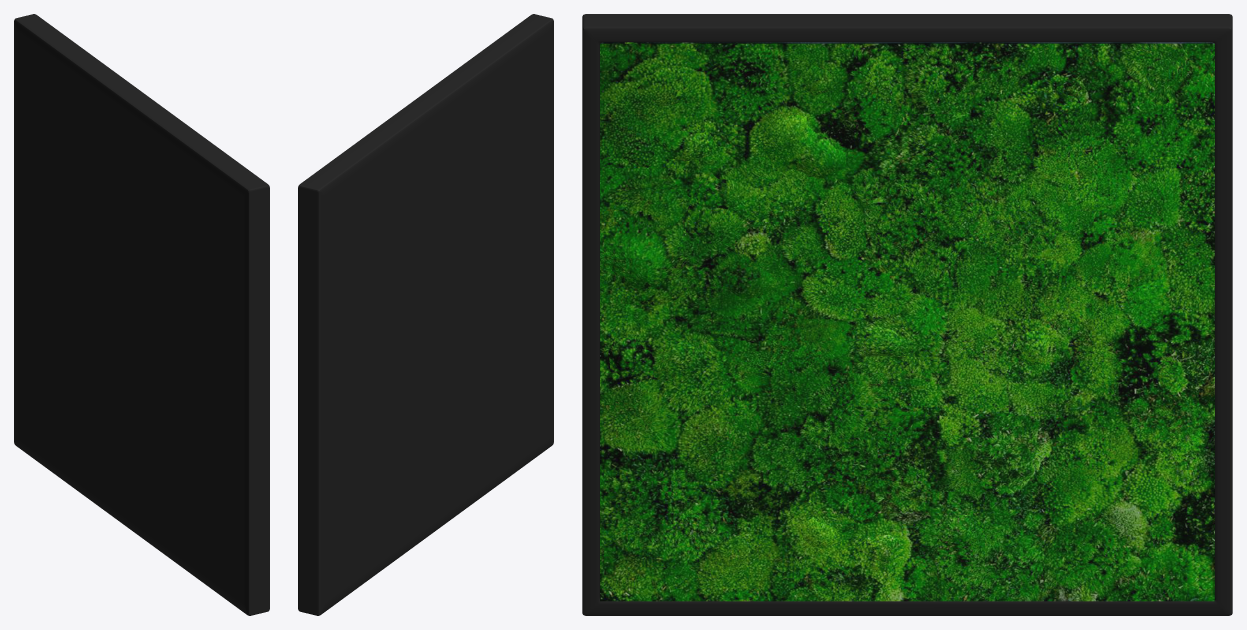
The model's file is Moosbild_Hugelmoos_550x550mm_black.fbx.
The picture shows the model from 3 angles, left to right: view 1: azimuth 30°, elevation 25°; view 2: azimuth 150°, elevation 25°; view 3: azimuth 270°, elevation 25°; orthographic projection. The views are drawn at different scales.
Parts seen in each view (by area): view 1: edge; view 2: edge; view 3: moss_low, edge, moss7.
Boxes of the visible parts, x1,y1,x2,y2 form: edge: (14,14,269,615); edge: (298,14,553,615); moss_low: (600,43,1214,601); edge: (582,14,1232,615); moss7: (601,42,1213,567).
Bounding box in the file's own units: 3.66 × 55 × 55.
2 materials, 1 textured.
